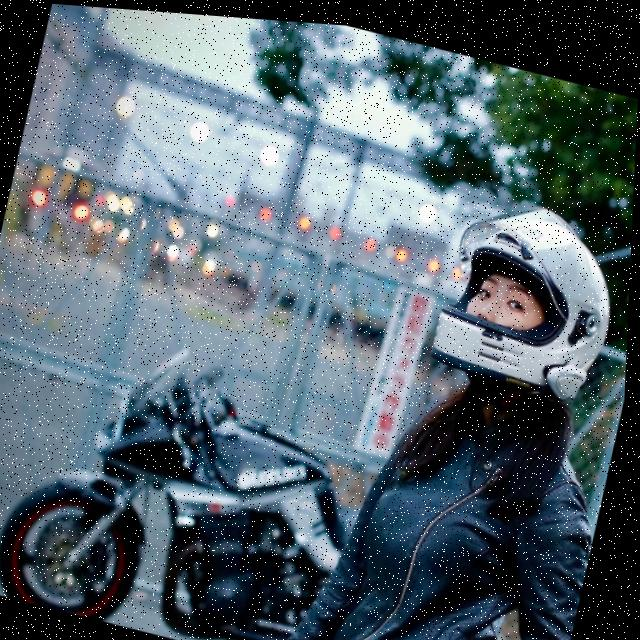helmet: (419, 171, 635, 409)
